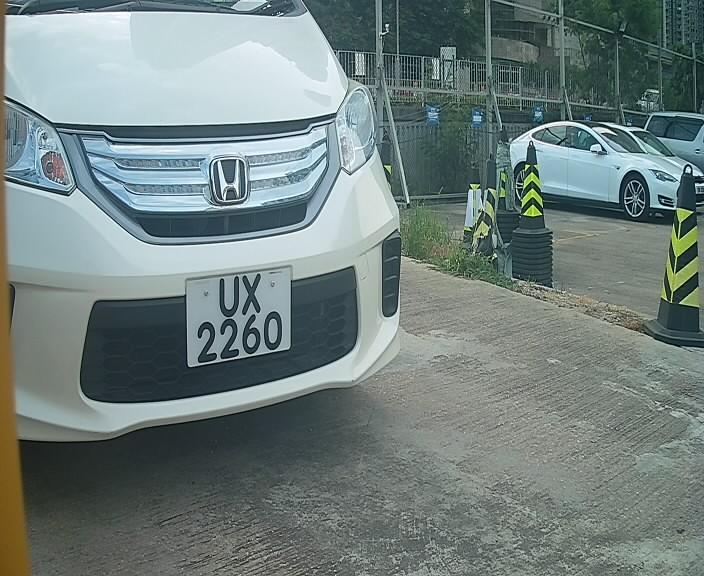privatecar: (1, 8, 419, 463)
